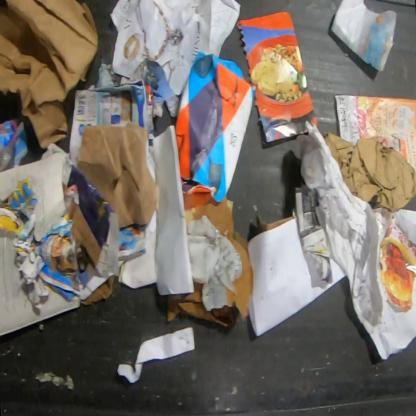cardboard: (0, 0, 100, 150), (76, 121, 161, 230), (256, 215, 295, 235)
soft_plastic: (0, 116, 28, 173)
